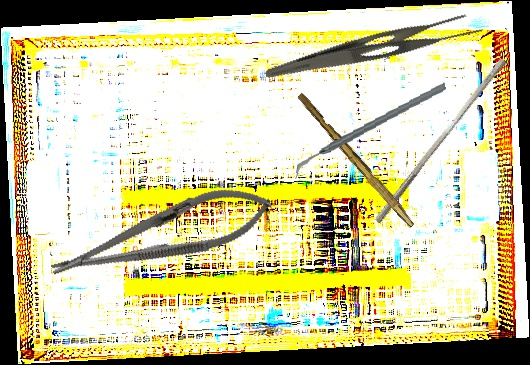Chopper: (287, 81, 453, 179)
Dressing Forceps: (263, 0, 485, 103)
Needle Holder: (43, 173, 279, 297)
Pusher: (373, 53, 508, 229)
Scalpel Handle: (294, 91, 419, 229)
